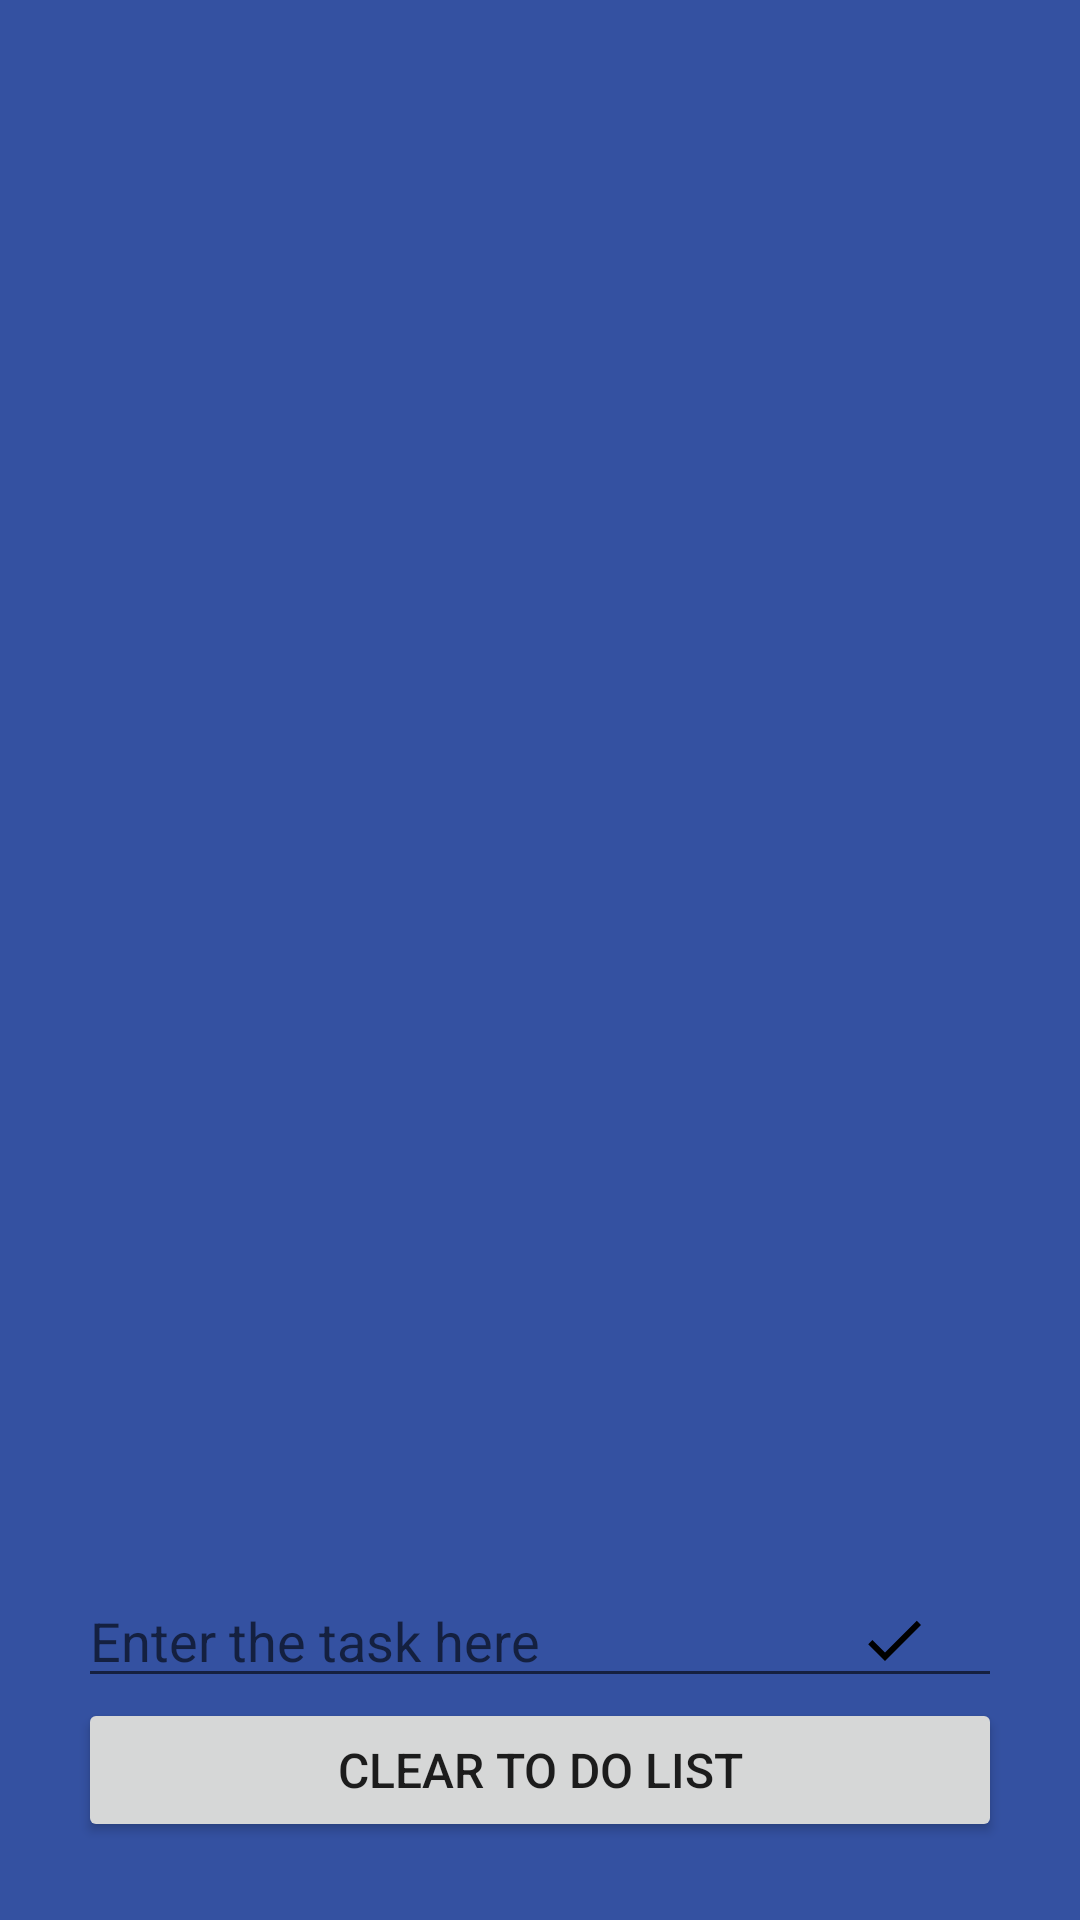

Locate icon controls on the screen. Image size 1080px x 1920px, boxes as (x1, y1, x2, y2).
done: (868, 1621, 921, 1661)
